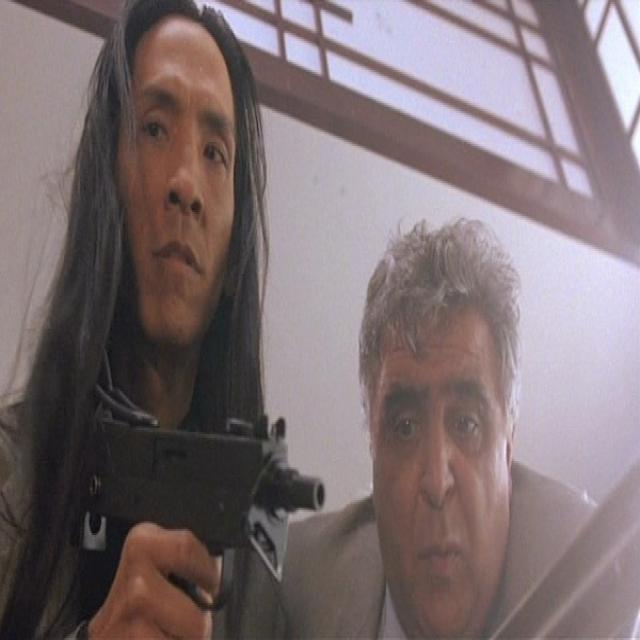rifle: (76, 372, 339, 584)
